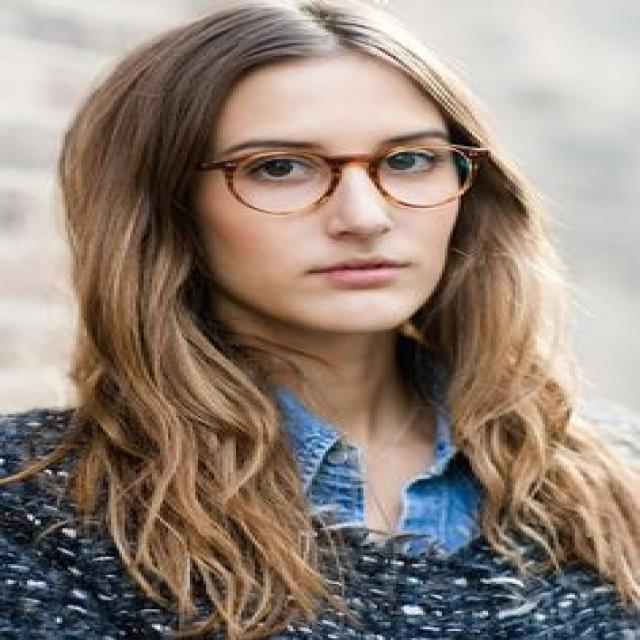Glasses: (193, 144, 495, 217)
